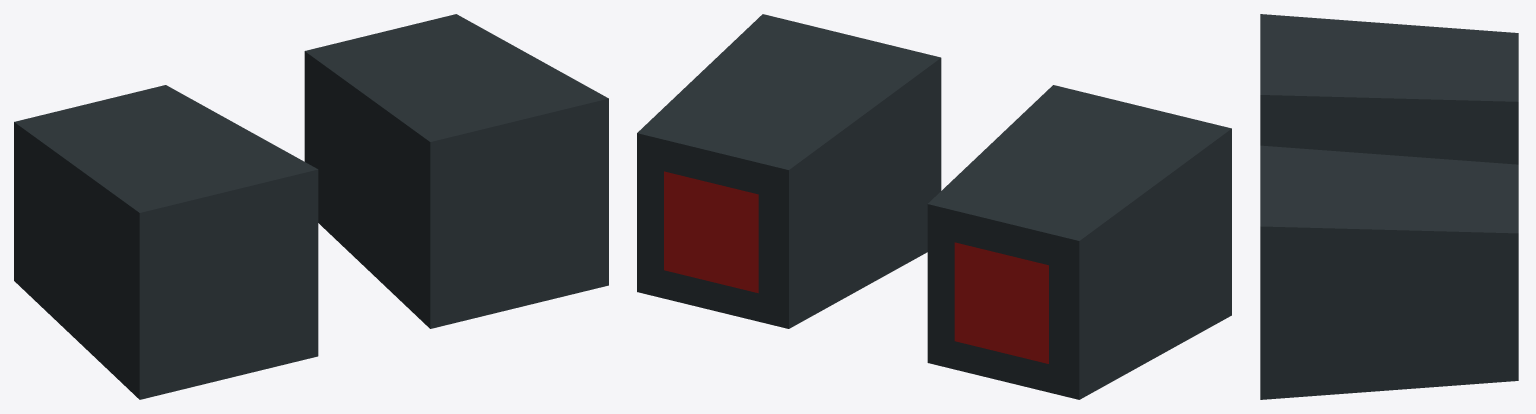
3 renders of one model, left to right at view 1: azimuth 30°, elevation 25°; view 2: azimuth 150°, elevation 25°; view 3: azimuth 270°, elevation 25°, orthographic. The views are drawn at different scales.
Parts seen in each view (by area): view 1: mount; view 2: mount; view 3: mount.
Part boxes in pixels (x1,y1,x2,y2): mount: (14,14,608,399); mount: (637,14,1231,399); mount: (1260,14,1518,399).
Bounding box in the file's own units: 4.83 × 1.84 × 2.51.
